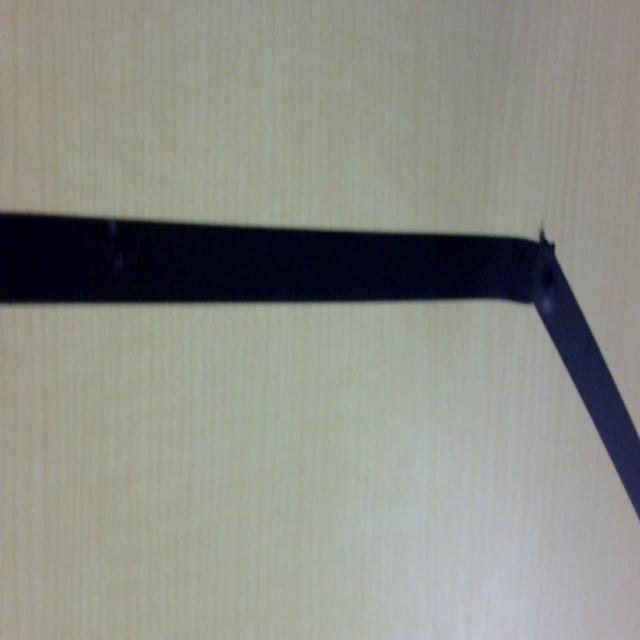tape: (0, 188, 640, 541)
